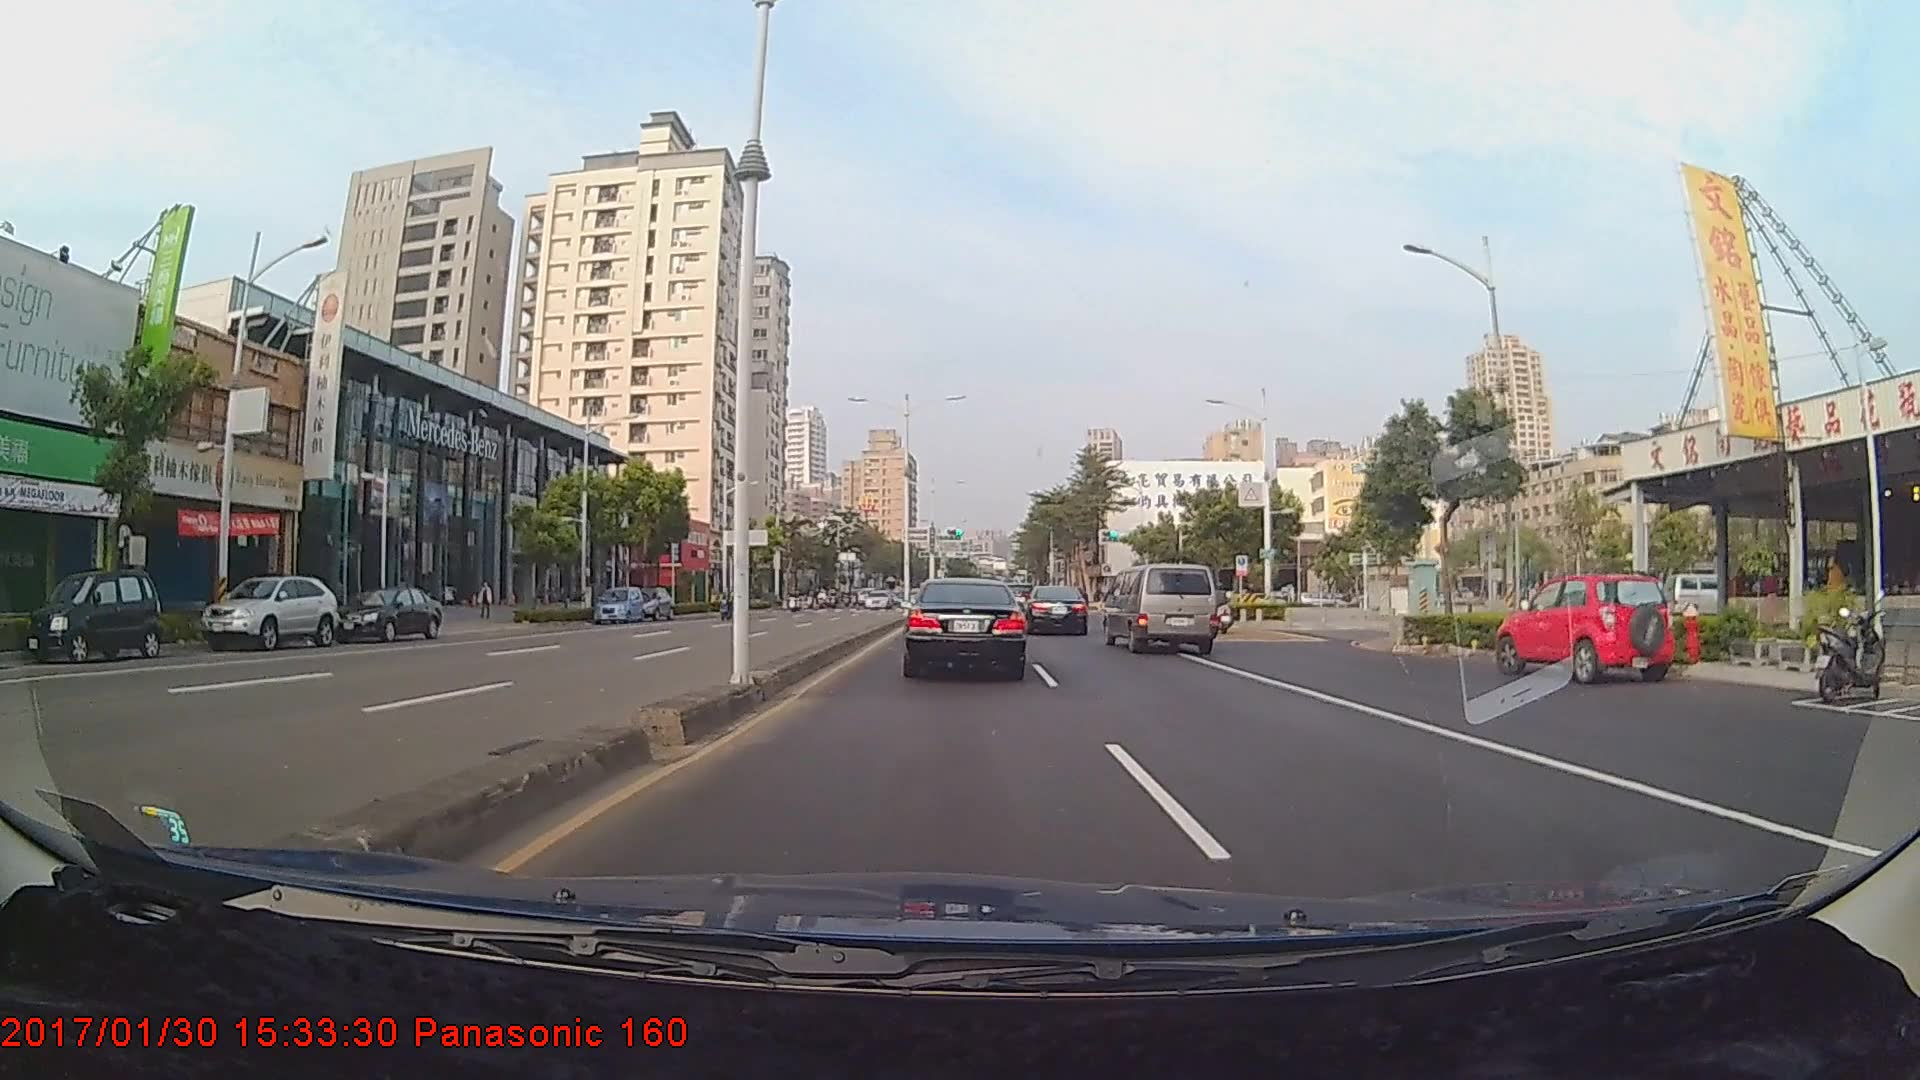pedestrian: (1826, 557, 1849, 636), (476, 579, 496, 621)
vehicle: (1504, 571, 1669, 683), (904, 577, 1025, 678), (1103, 562, 1218, 654), (198, 571, 335, 649), (76, 573, 161, 662), (332, 586, 441, 642), (1020, 584, 1090, 638), (593, 585, 644, 623), (631, 585, 670, 619), (863, 587, 891, 609)
